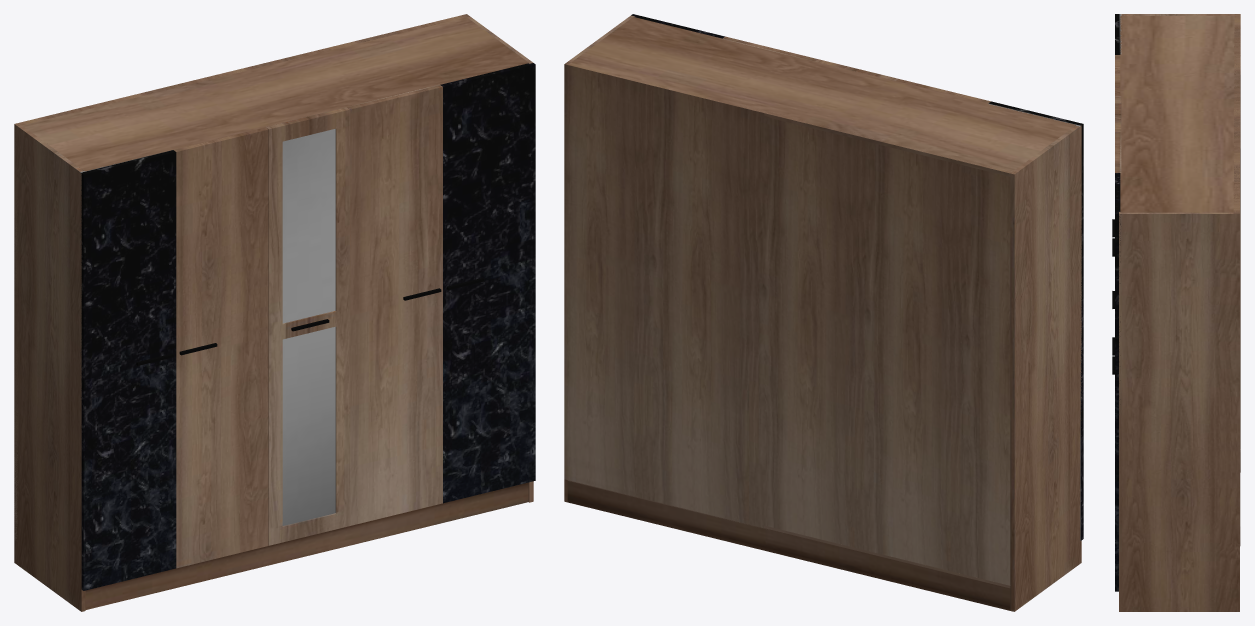
The model's file is almirah.glb.
3 views of the same model, side by side, from view 1: azimuth 30°, elevation 25°; view 2: azimuth 150°, elevation 25°; view 3: azimuth 270°, elevation 25° (orthographic). The views are drawn at different scales.
Visible parts, largest first — view 1: wood, marble, mirror, metal; view 2: wood, marble; view 3: wood, marble, metal.
Boxes of the visible parts, x1,y1,x2,y2 form: wood: (14, 14, 533, 611); marble: (80, 63, 535, 590); mirror: (282, 129, 335, 525); metal: (136, 278, 484, 365); wood: (564, 15, 1081, 611); marble: (631, 14, 1083, 540); wood: (1115, 14, 1240, 611); marble: (1115, 14, 1121, 591); metal: (1112, 219, 1114, 374).
Size of the model in its own units: 2261 by 2098 by 614.
4 materials, 4 textured.
